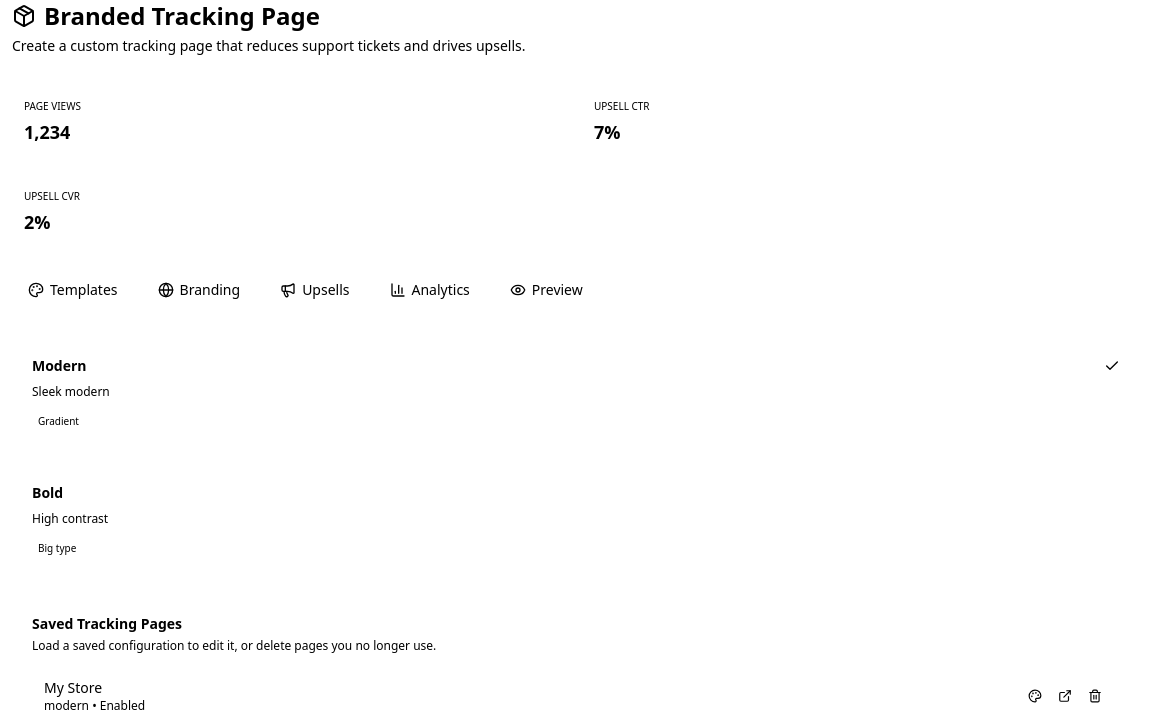
Scenario: TrackingPageManager › toggles an upsell slot and reveals its fields
Click the button "Upsells" at [315, 290], box [264,272,366,308]
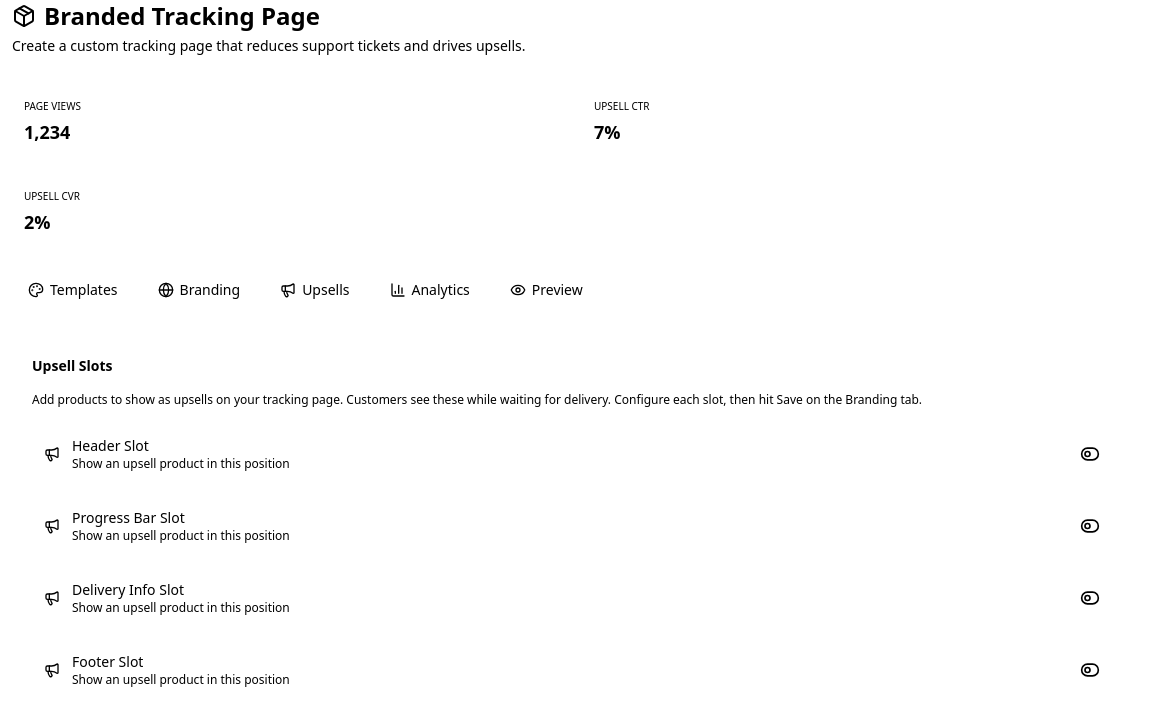
Click the switch named "header upsell slot" at [1090, 454], box [1072,436,1108,472]
(page scrolled)
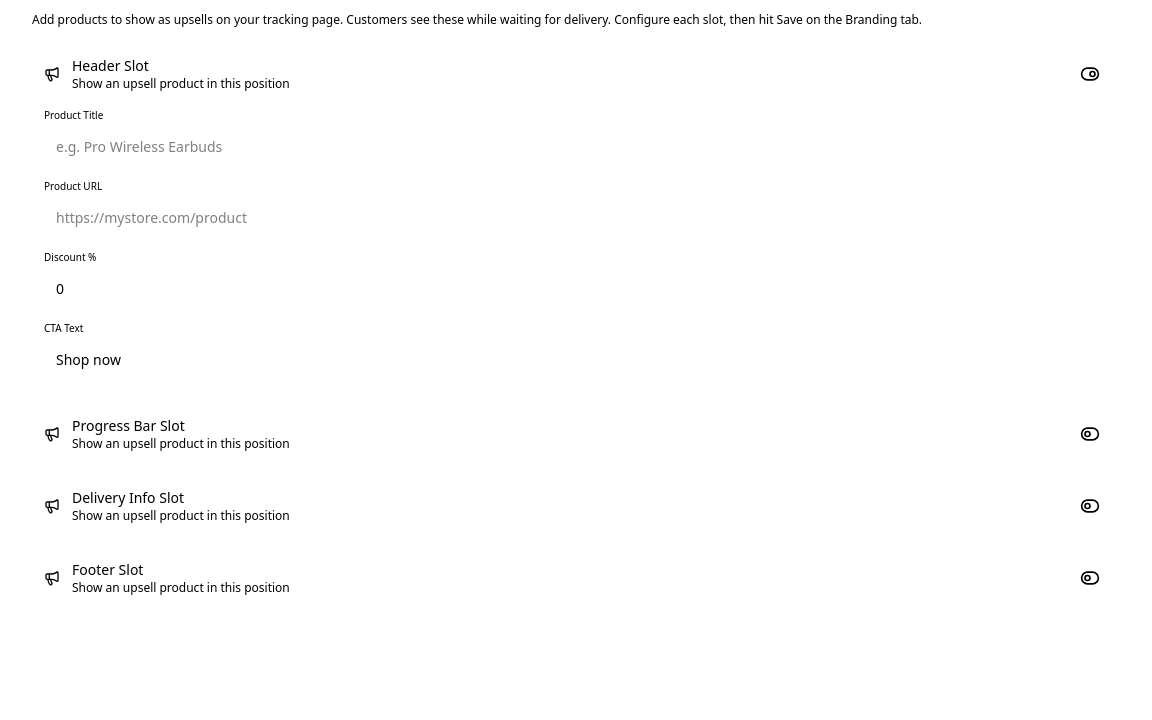
Now the field labelled "Product Title" is shown, box [44,127,1108,167]
Now the field labelled "Product URL" is shown, box [44,198,1108,238]
Now the number field labelled "Discount %" is shown, box [44,269,1108,309]
